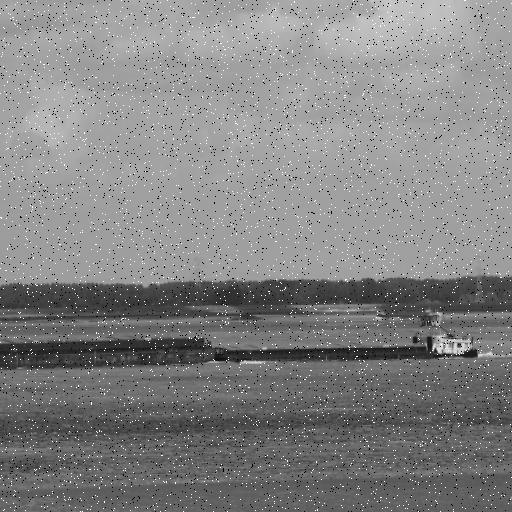tugboat: (409, 310, 482, 367)
